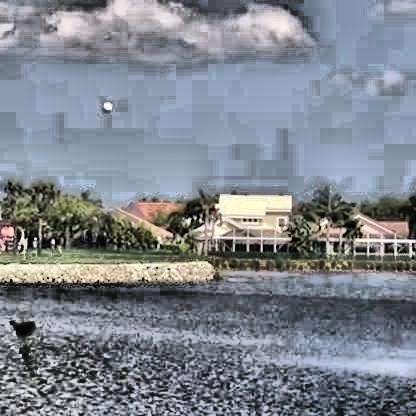golfball: (98, 98, 109, 109)
